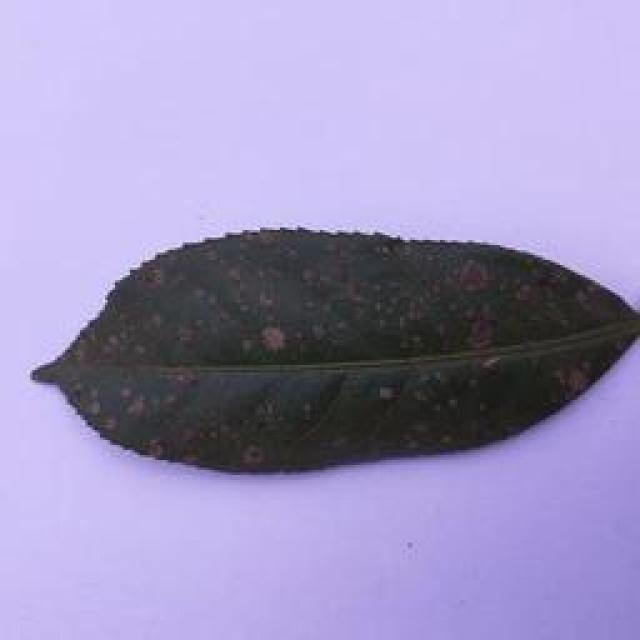Algal Leaf Spot: (31, 220, 640, 484)
